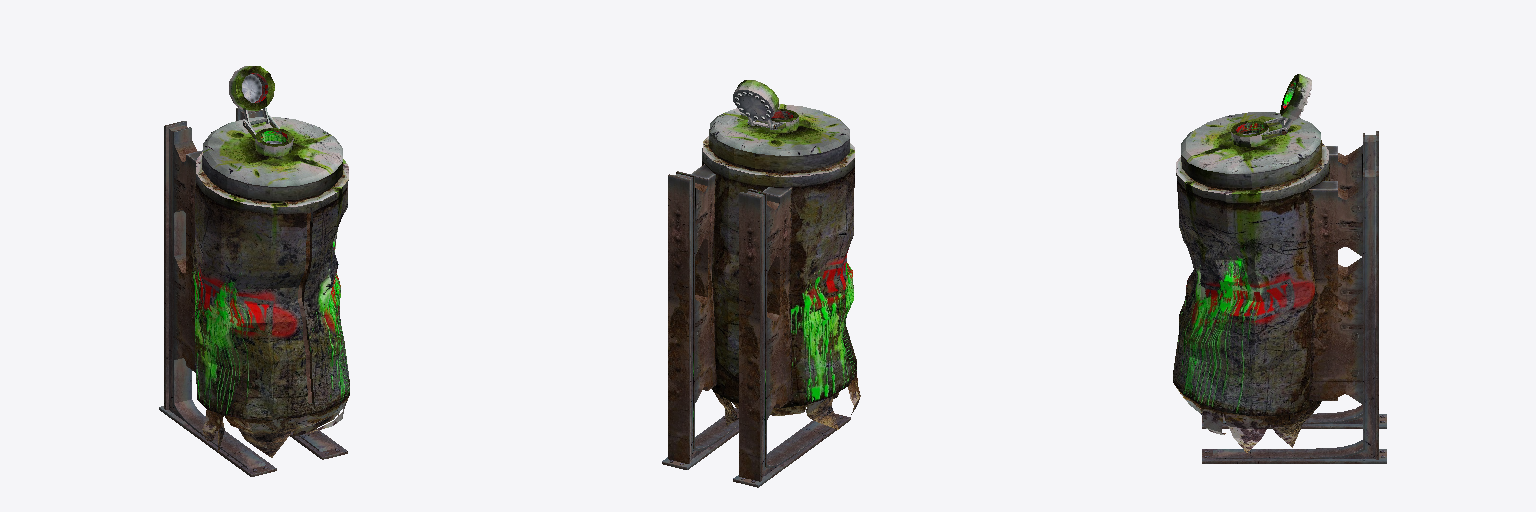
3 renders of one model, left to right at view 1: azimuth 30°, elevation 25°; view 2: azimuth 150°, elevation 25°; view 3: azimuth 270°, elevation 25°, orthographic.
Visible parts, largest first — view 1: OBJ_Titan_Vat_DamagedOBJ_Titan_Vat_Damaged; view 2: OBJ_Titan_Vat_DamagedOBJ_Titan_Vat_Damaged; view 3: OBJ_Titan_Vat_DamagedOBJ_Titan_Vat_Damaged.
Boxes of the visible parts, x1=… form: OBJ_Titan_Vat_DamagedOBJ_Titan_Vat_Damaged: x1=159, y1=66, x2=349, y2=476; OBJ_Titan_Vat_DamagedOBJ_Titan_Vat_Damaged: x1=662, y1=80, x2=860, y2=487; OBJ_Titan_Vat_DamagedOBJ_Titan_Vat_Damaged: x1=1173, y1=74, x2=1386, y2=463.
Bounding box in the file's own units: 142 × 354 × 188.
Materials: 1 (1 with a texture image).